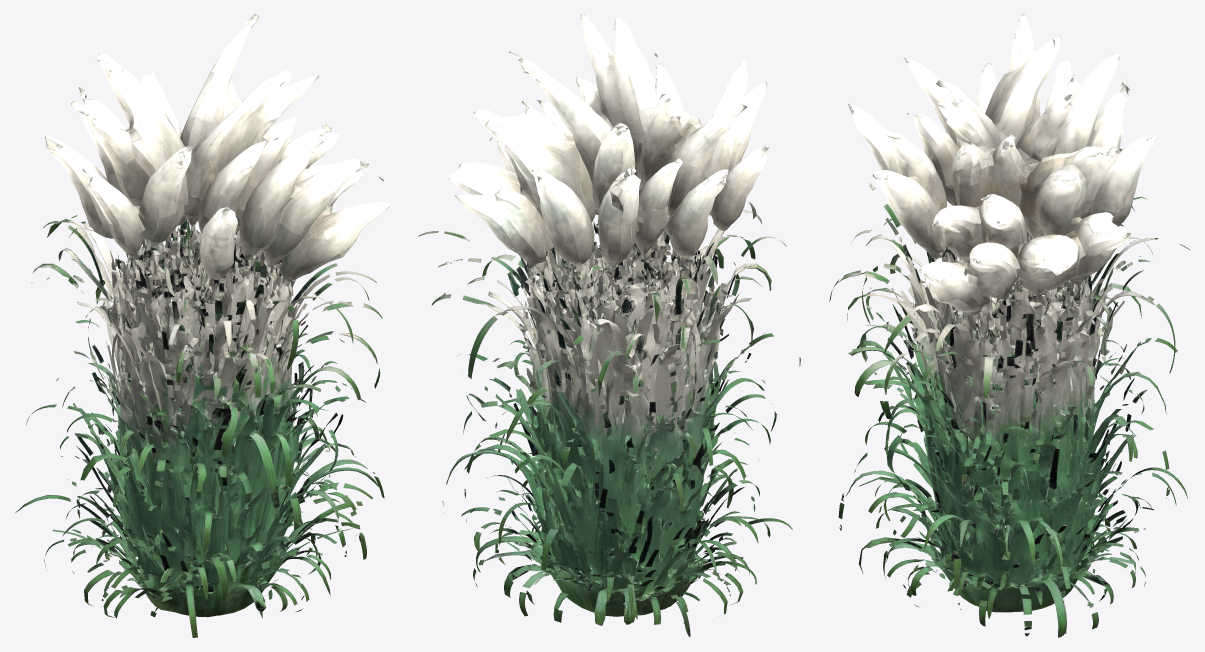
File: raw_meshy_model.glb
The picture shows the model from 3 angles, left to right: view 1: azimuth 30°, elevation 25°; view 2: azimuth 150°, elevation 25°; view 3: azimuth 270°, elevation 25°; orthographic projection.
Bounding box in the file's own units: 1.12 × 1.87 × 1.15.
Materials: 1 (1 with a texture image).
